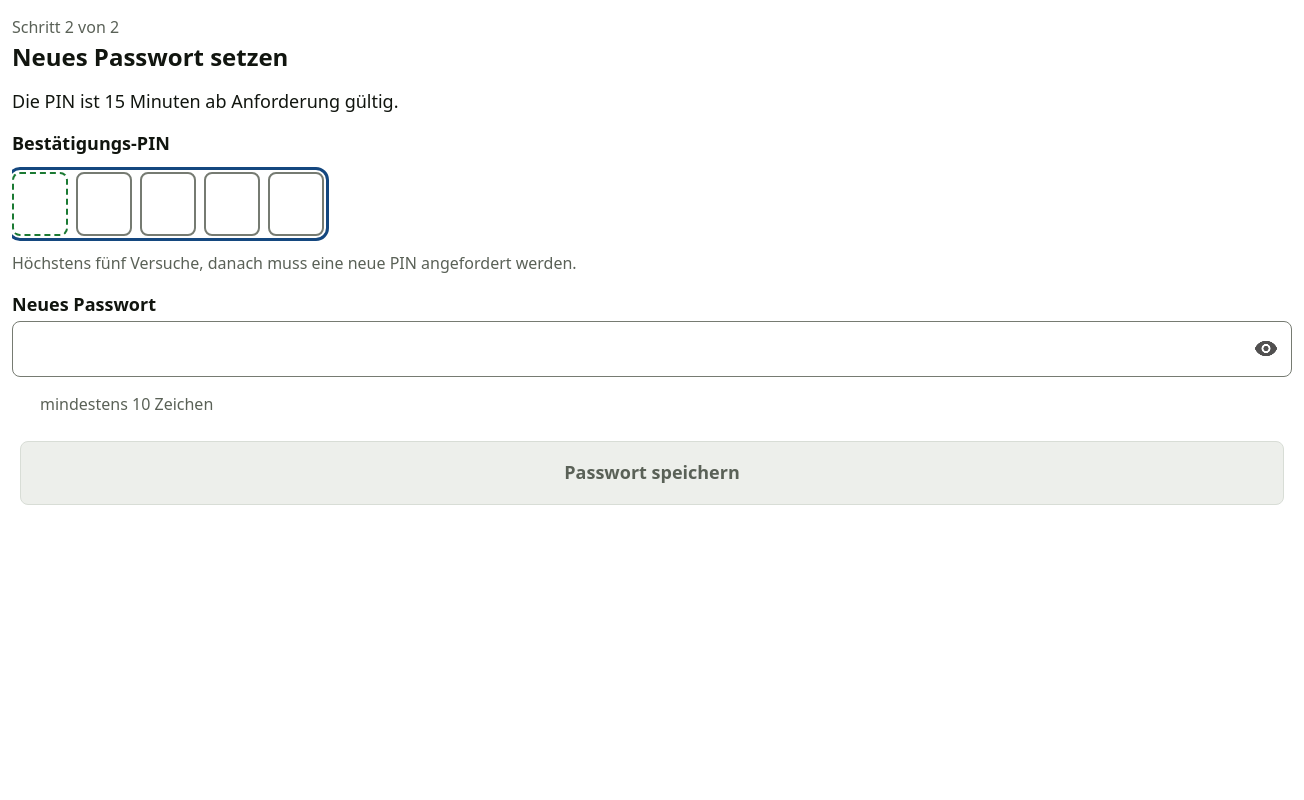
it: PasswortNeu › Fehler › 409 RESET_UNGUELTIG: Kasten mit „Neue PIN anfordern" statt nochmal versuchen
Type "12345" into the field with test id "reset-pin-feld". click: (168, 204)
box: x1=12 y1=172 x2=324 y2=236
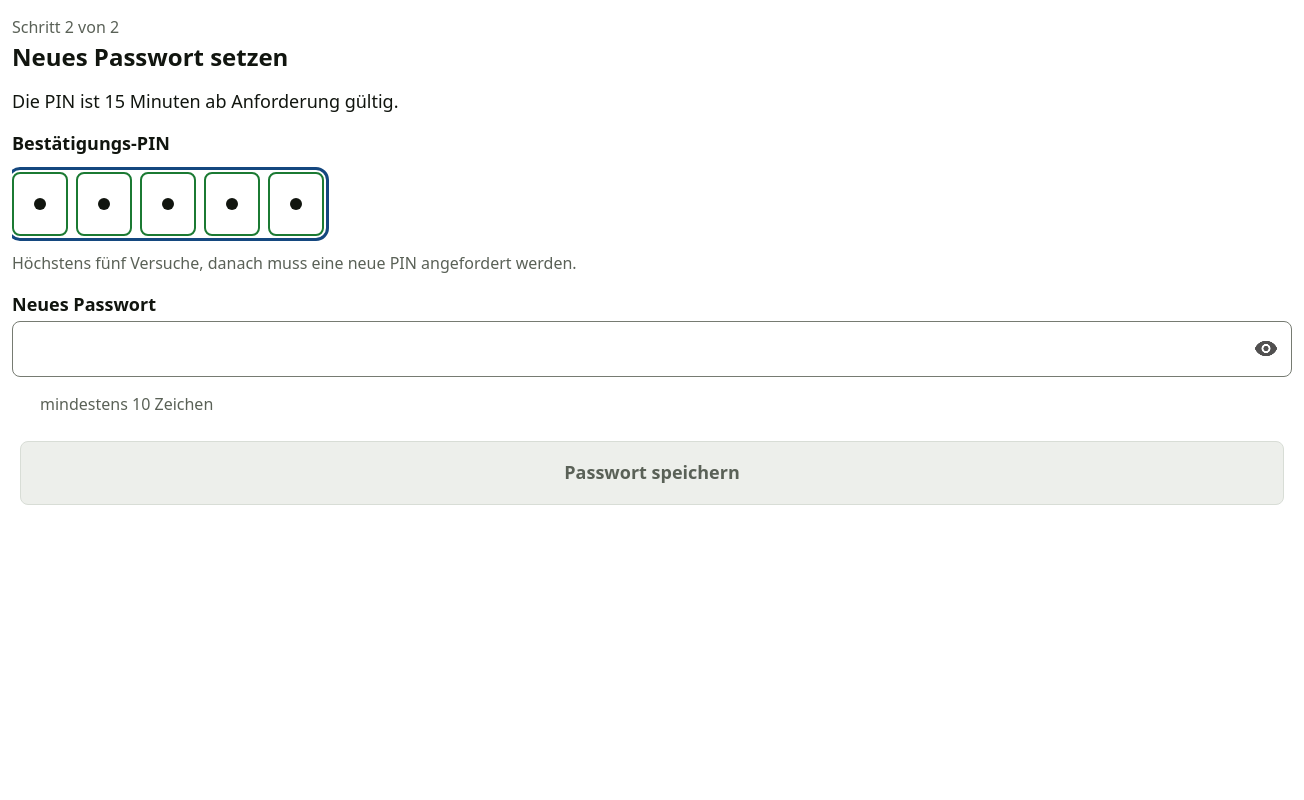
Type "beispiel-passwort-02" into the password field with test id "passwort-neu-passwort". click: (652, 350)
box: x1=12 y1=322 x2=1292 y2=378
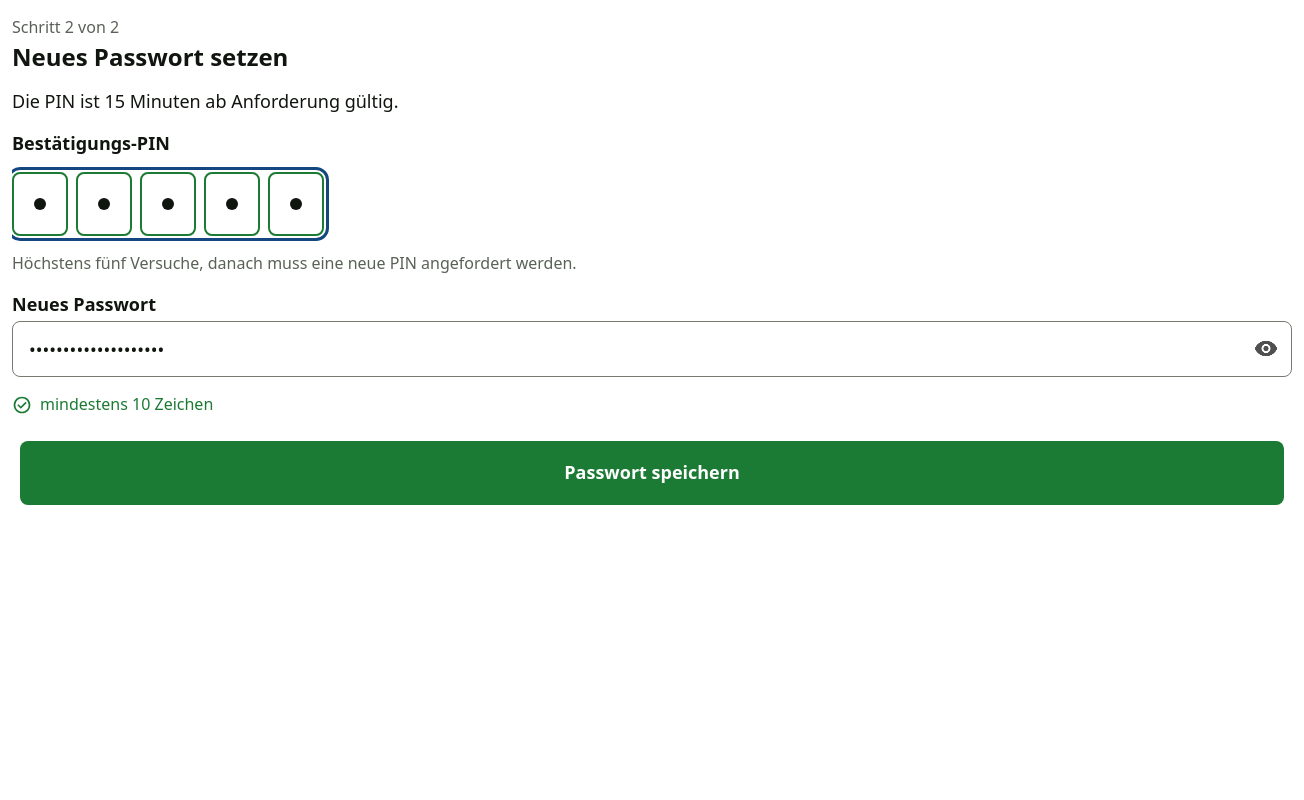
Click the button with test id "passwort-neu-absenden". click: (652, 473)
box: x1=20 y1=441 x2=1284 y2=505
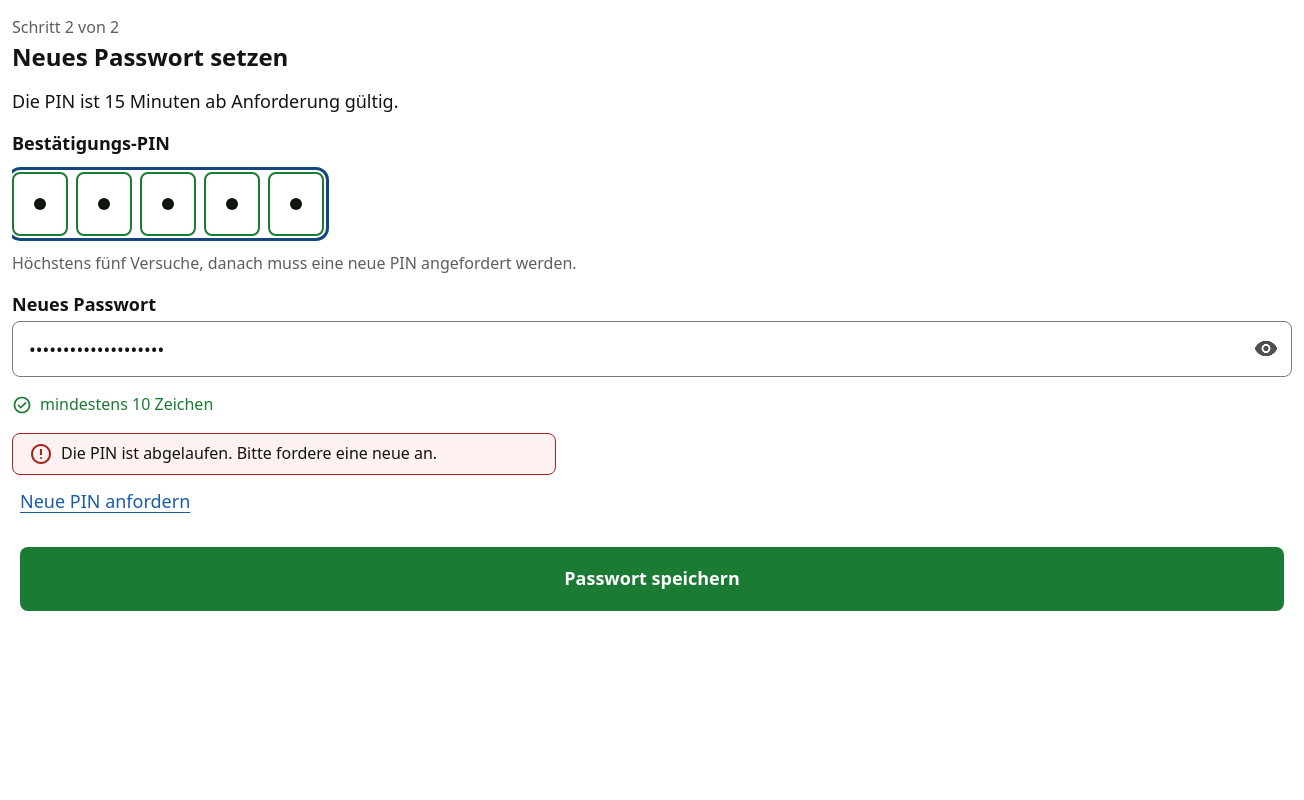
Now the message with test id "passwort-neu-fehler" reads "Die PIN ist abgelaufen. Bitte fordere eine neue an.", box x1=61 y1=442 x2=437 y2=464
